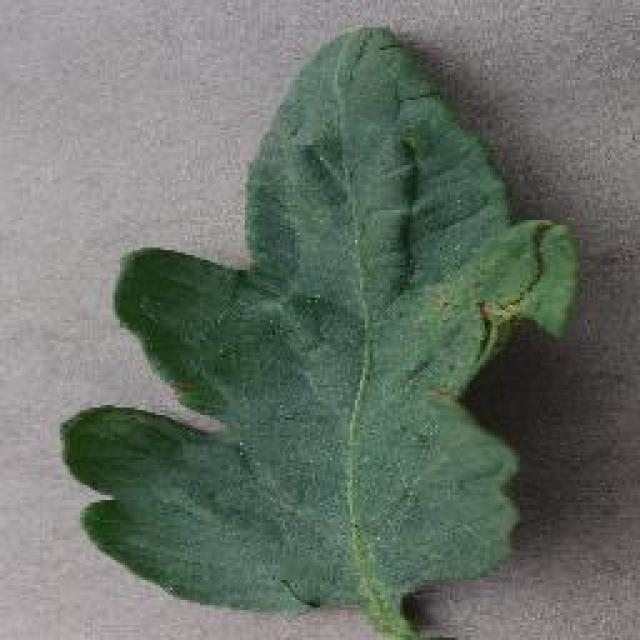Tomato bacterial spot leaf: (64, 31, 571, 634)
